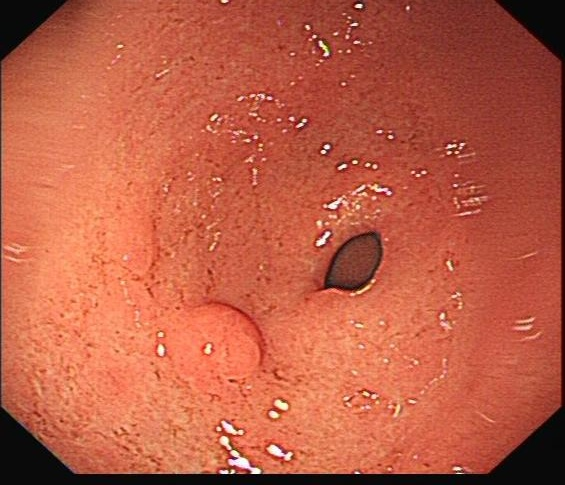Polyp: (159, 297, 269, 393)
